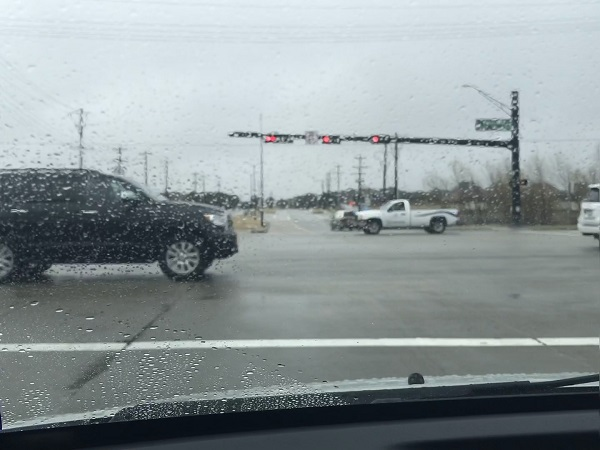car: (2, 166, 240, 283)
truck: (357, 199, 458, 233)
